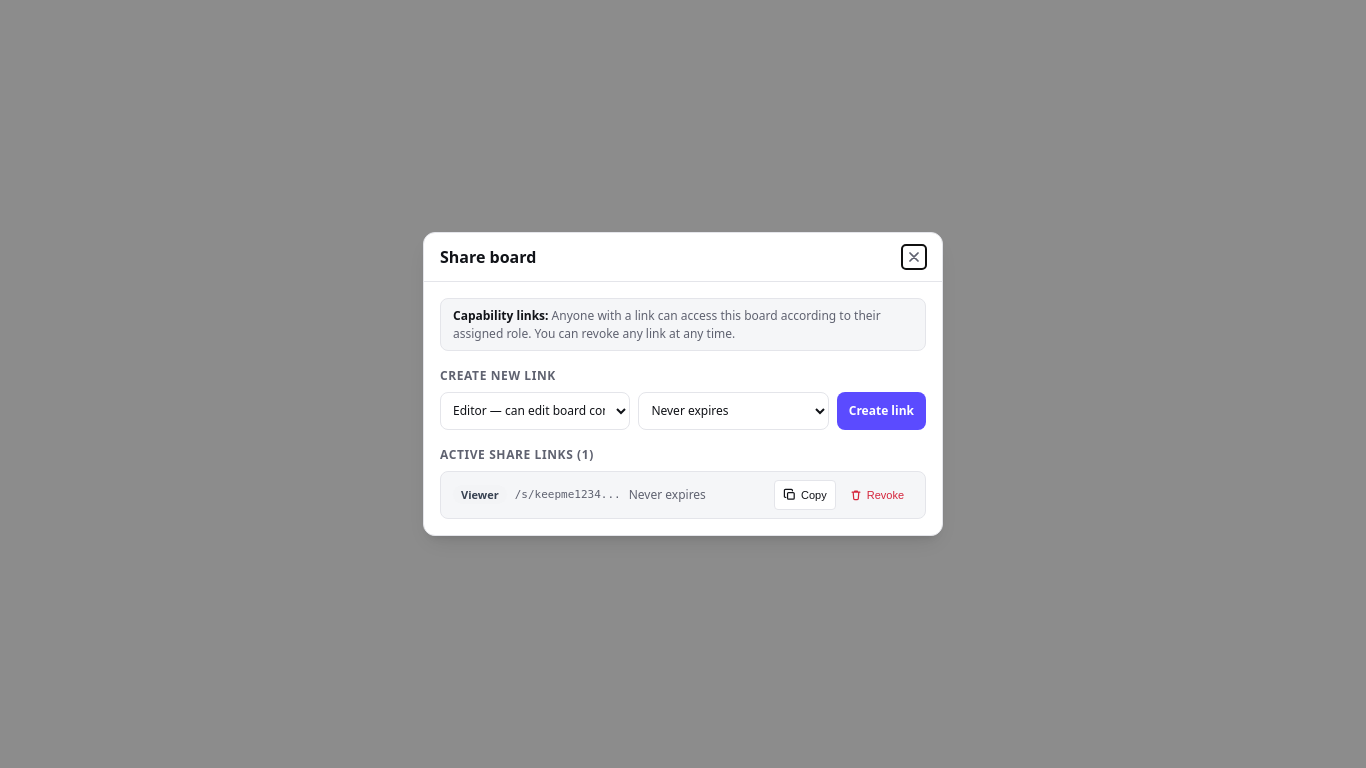
Test: ShareModal with a sync server › keeps the link and shows an error when revoking fails
Step 1. Click the button with test id "revoke-link-keepme12345" → {"x": 876, "y": 495}, box 840,480 -> 913,510
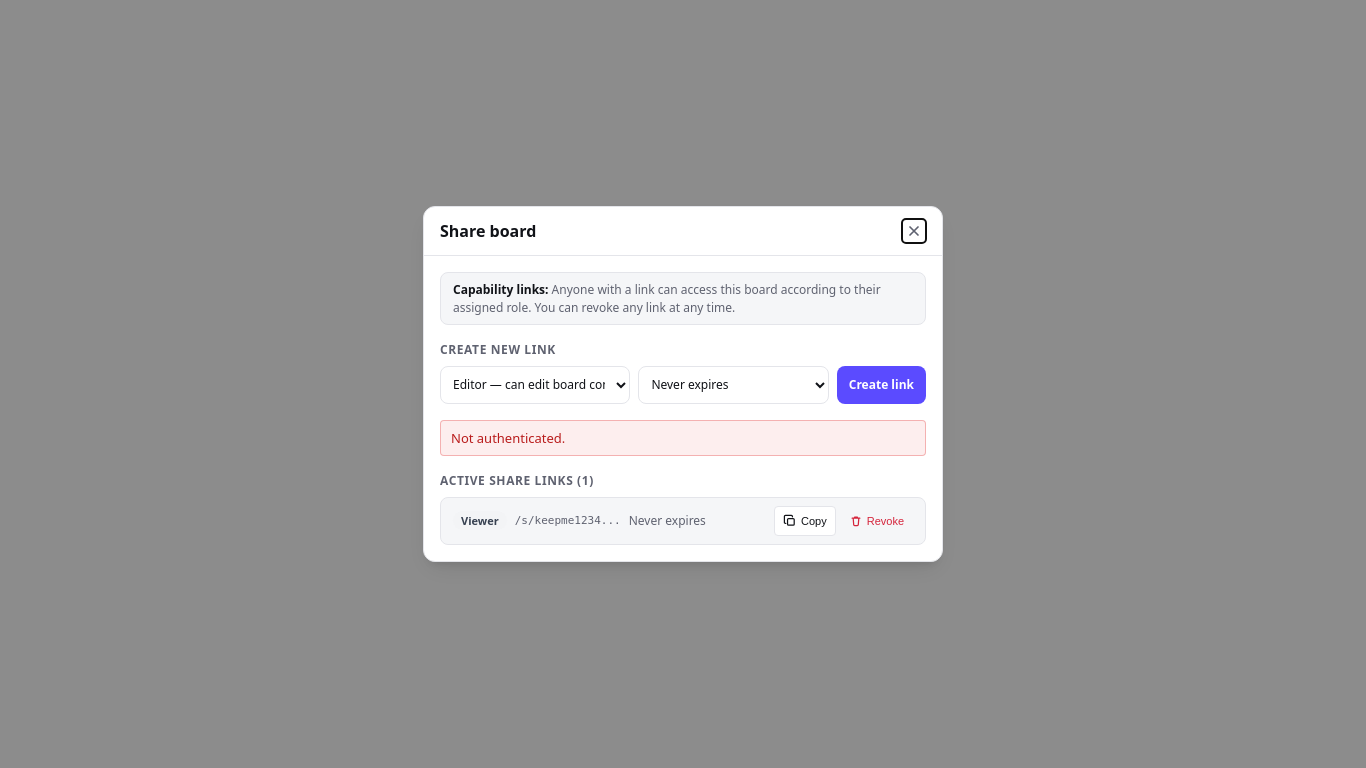
Expected: the element with test id "share-link-item-keepme12345" is shown, 440,497 -> 926,545
Expected: the message with test id "share-error" reads "Not authenticated.", 451,429 -> 565,447
